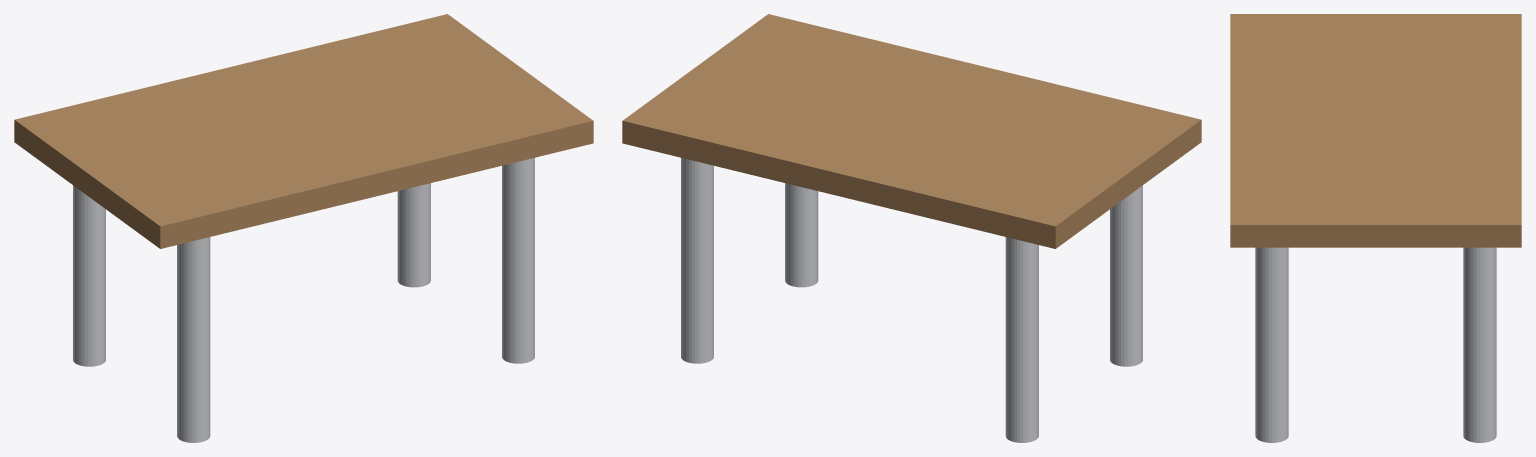
The model's file is t1_table.glb.
3 views of the same model, side by side, from view 1: azimuth 30°, elevation 25°; view 2: azimuth 150°, elevation 25°; view 3: azimuth 270°, elevation 25° (orthographic).
Parts seen in each view (by area): view 1: TableTop, Leg_FL, Leg_FR, Leg_BL, Leg_BR; view 2: TableTop, Leg_BL, Leg_BR, Leg_FL, Leg_FR; view 3: TableTop, Leg_BR, Leg_FR.
Boxes of the visible parts, x1,y1,x2,y2 form: TableTop: [14, 14, 593, 248]; Leg_FL: [177, 237, 210, 442]; Leg_FR: [502, 158, 534, 363]; Leg_BL: [73, 185, 105, 366]; Leg_BR: [397, 183, 430, 287]; TableTop: [622, 14, 1201, 248]; Leg_BL: [1005, 237, 1038, 442]; Leg_BR: [681, 158, 713, 363]; Leg_FL: [1110, 185, 1142, 366]; Leg_FR: [785, 183, 818, 287]; TableTop: [1230, 14, 1521, 247]; Leg_BR: [1463, 247, 1496, 442]; Leg_FR: [1255, 247, 1288, 442].
Bounding box in the file's own units: 2.4 × 1.26 × 1.4.
